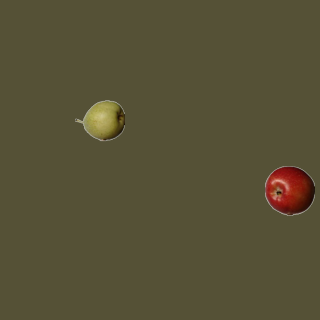Apple Braeburn: (264, 165, 314, 215)
Pear: (74, 95, 124, 145)
